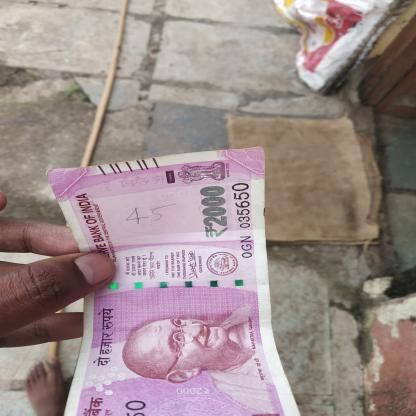New2000Front: (57, 156, 258, 416)
